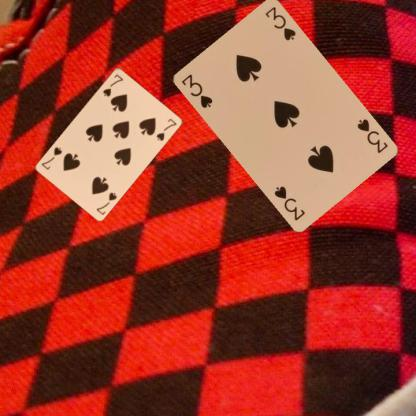3s: (354, 115, 390, 155), (178, 71, 214, 110)
7s: (93, 190, 118, 216), (100, 71, 124, 98)
